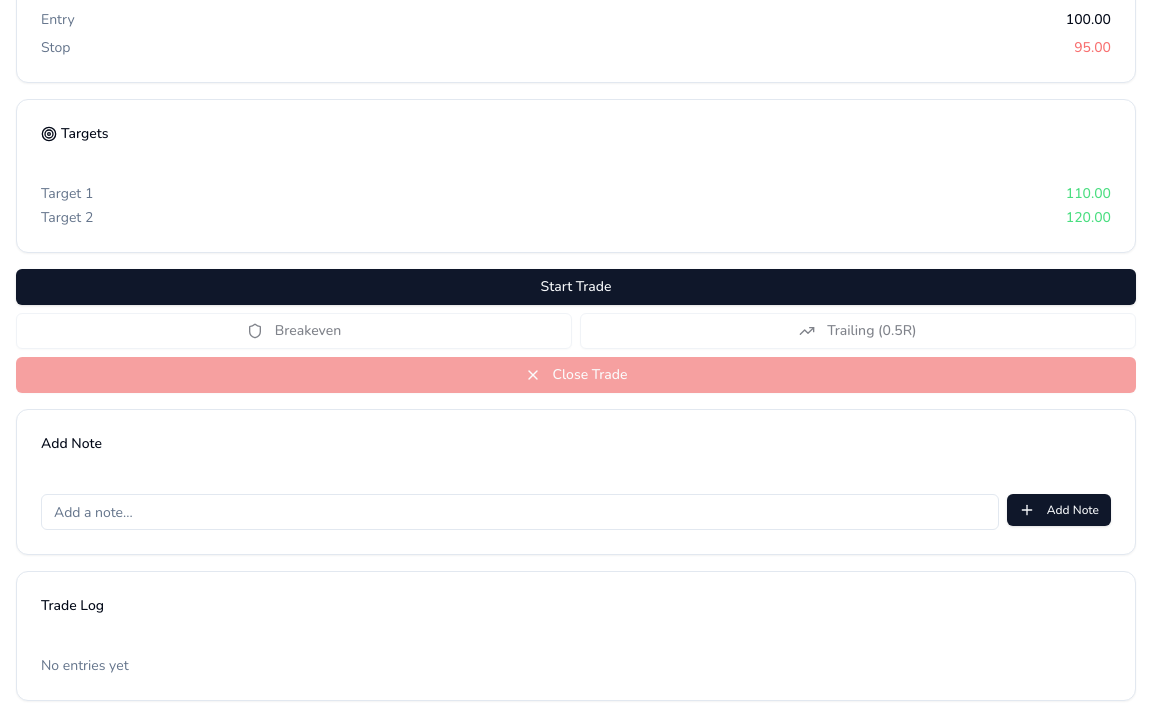
Test case: ManagePanel › add note › should add note to trade log
(page scrolled)
Type "Test observation" into the field with placeholder "Add a note...". click: coordinates (520, 512)
box: [41,494,999,530]
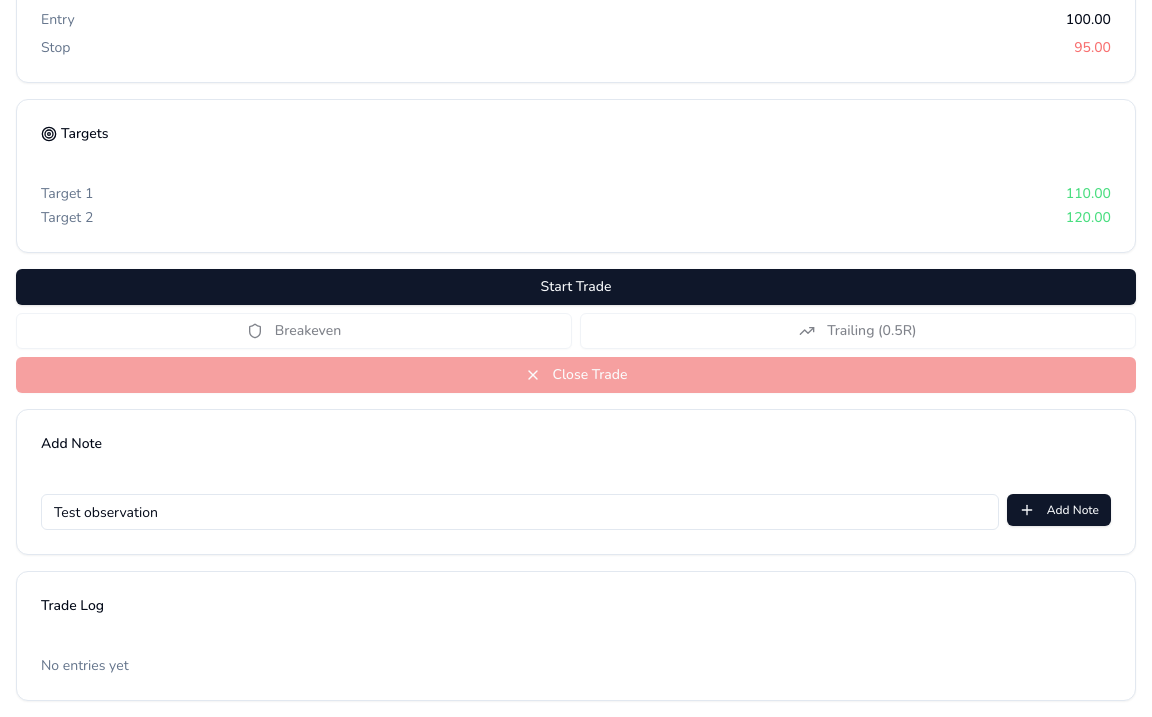
Click the button "Add Note". click: coordinates (1059, 510)
box: [1007,494,1111,526]
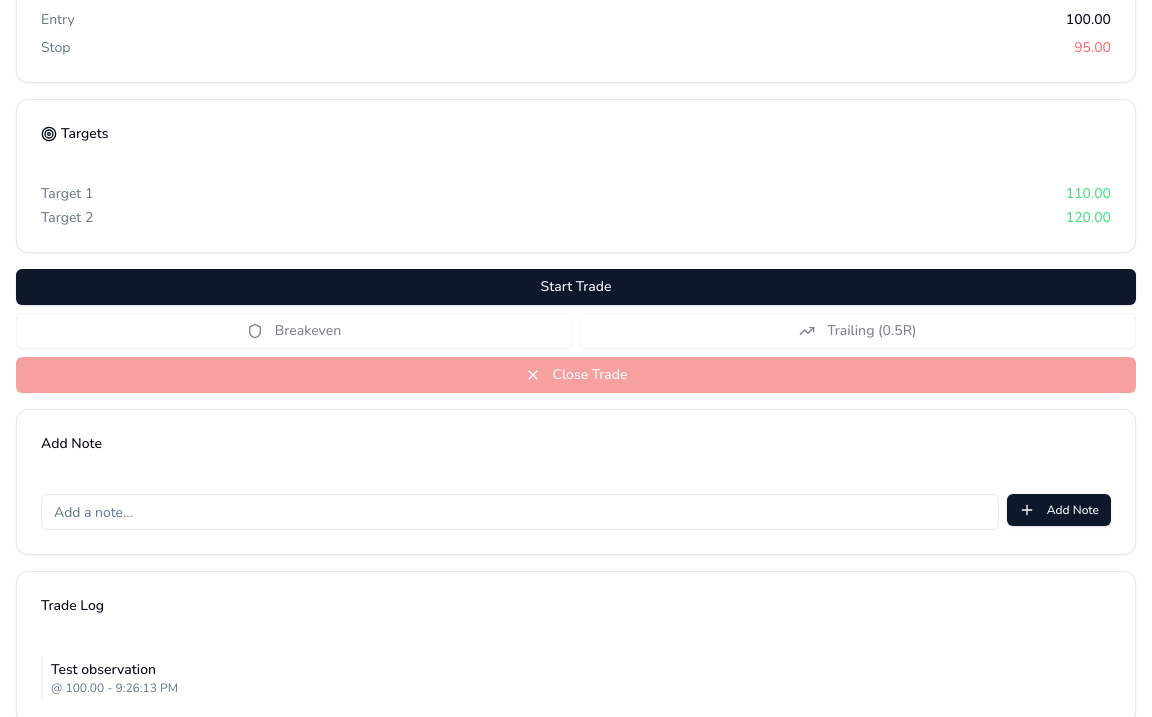
expect the text "Test observation" is shown: met, box [51,660,156,679]
